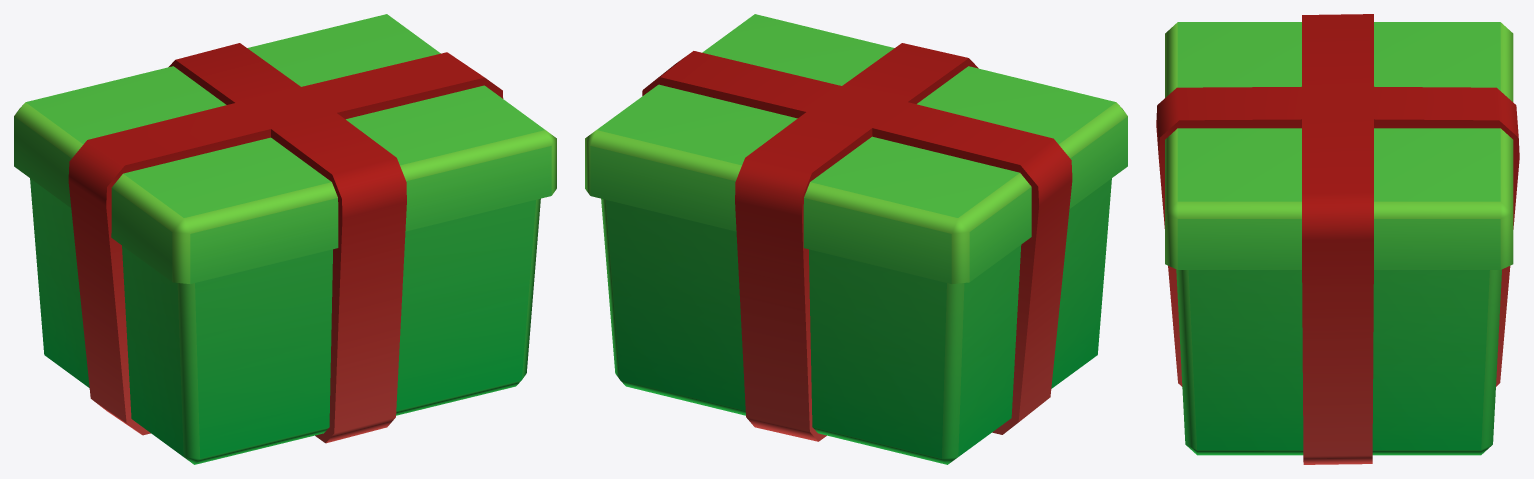
Rendered from giftbox_026.fbx.
3 views of the same model, side by side, from view 1: azimuth 30°, elevation 25°; view 2: azimuth 150°, elevation 25°; view 3: azimuth 270°, elevation 25° (orthographic).
Parts seen in each view (by area): view 1: giftbox_026; view 2: giftbox_026; view 3: giftbox_026.
Part boxes in pixels (x1,y1,x2,y2): giftbox_026: (14, 14, 556, 464); giftbox_026: (585, 14, 1127, 464); giftbox_026: (1156, 14, 1519, 464).
Size of the model in its own units: 285 by 220 by 188.
